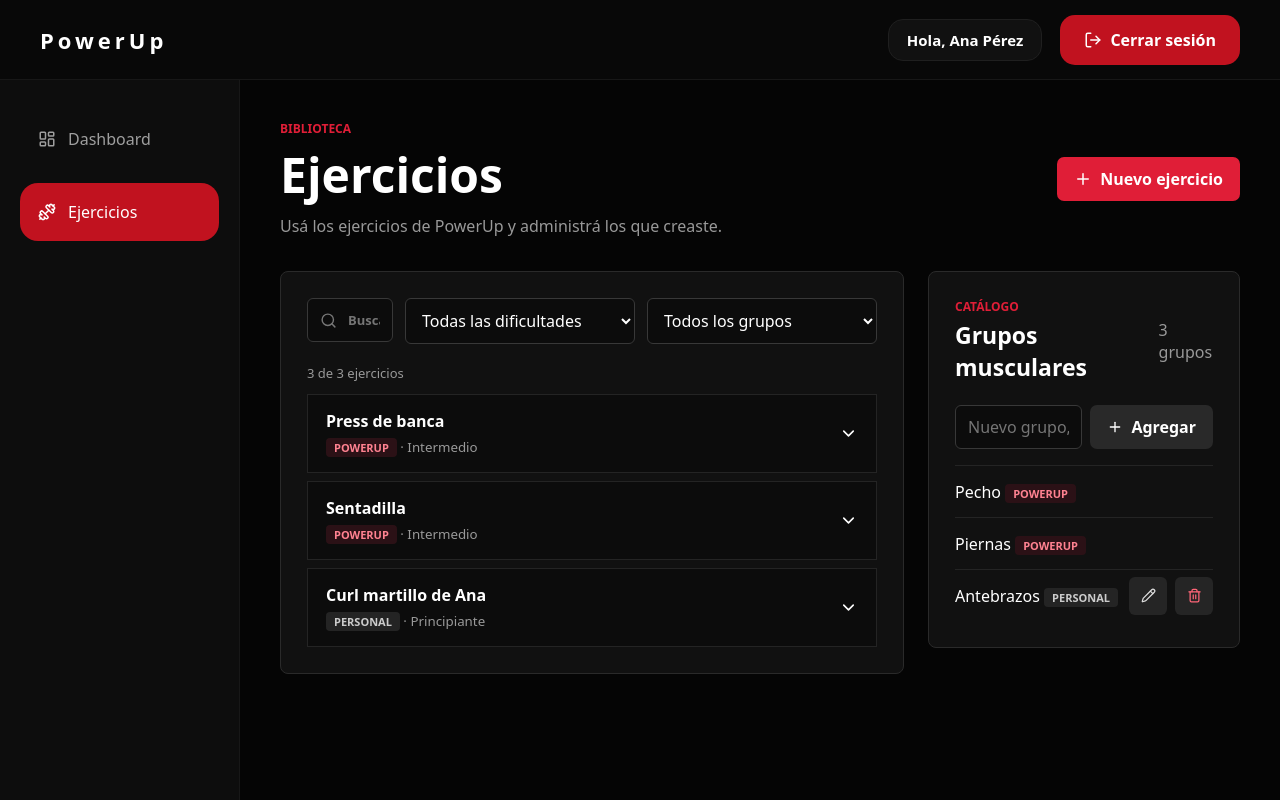
grupos musculares › informa un nombre duplicado
This screenshot has width=1280, height=800.
In the field named "Nombre del nuevo grupo muscular": (1019,427) [955, 405, 1082, 449], type "pecho"
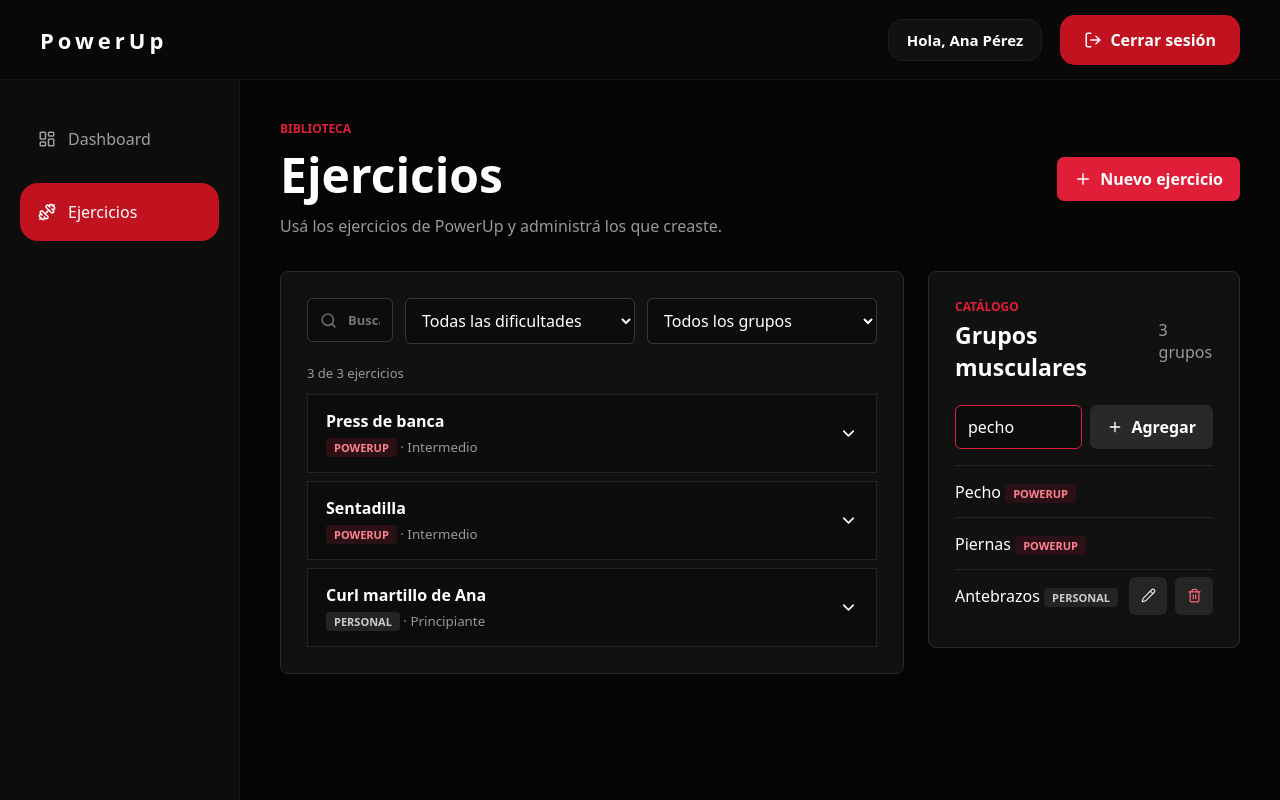
Click the button "Agregar": (1152,427) [1090, 405, 1213, 449]
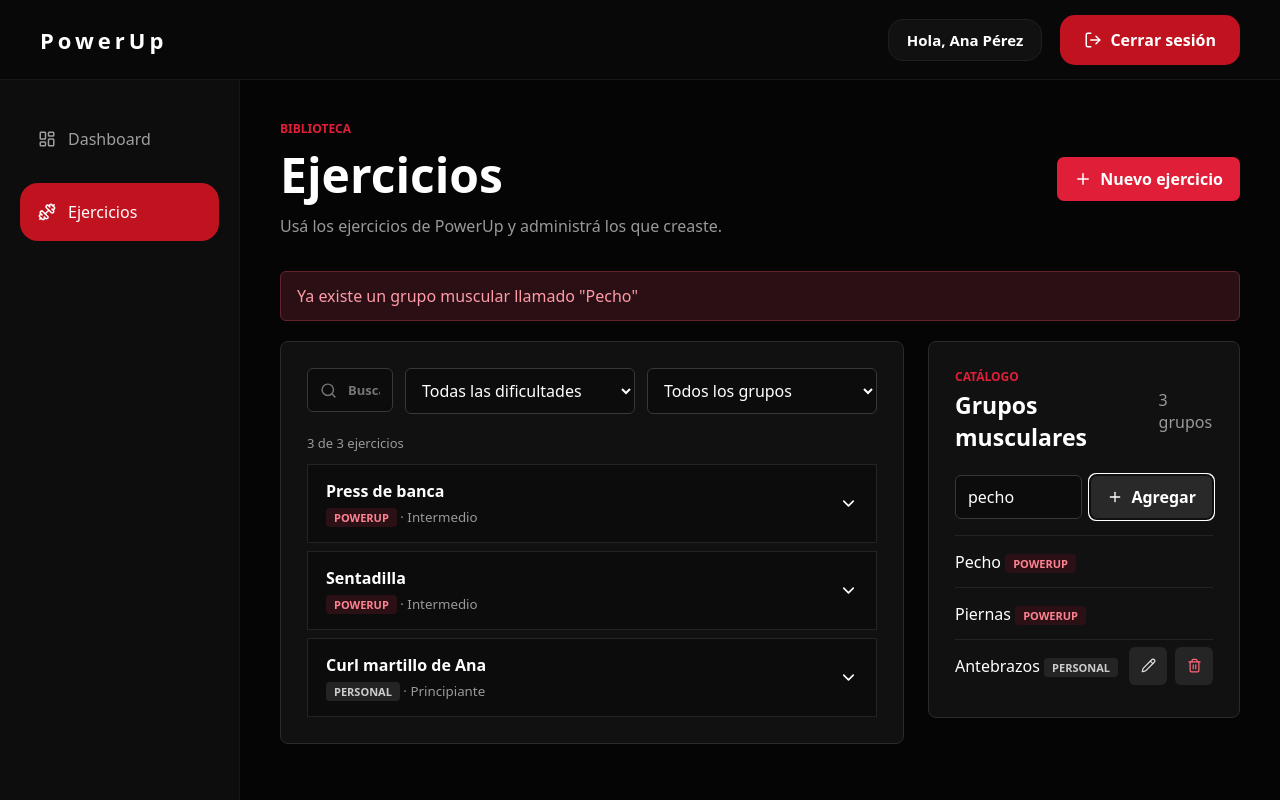
Check: the message shows "Ya existe un grupo muscular", box [297, 285, 638, 307]
